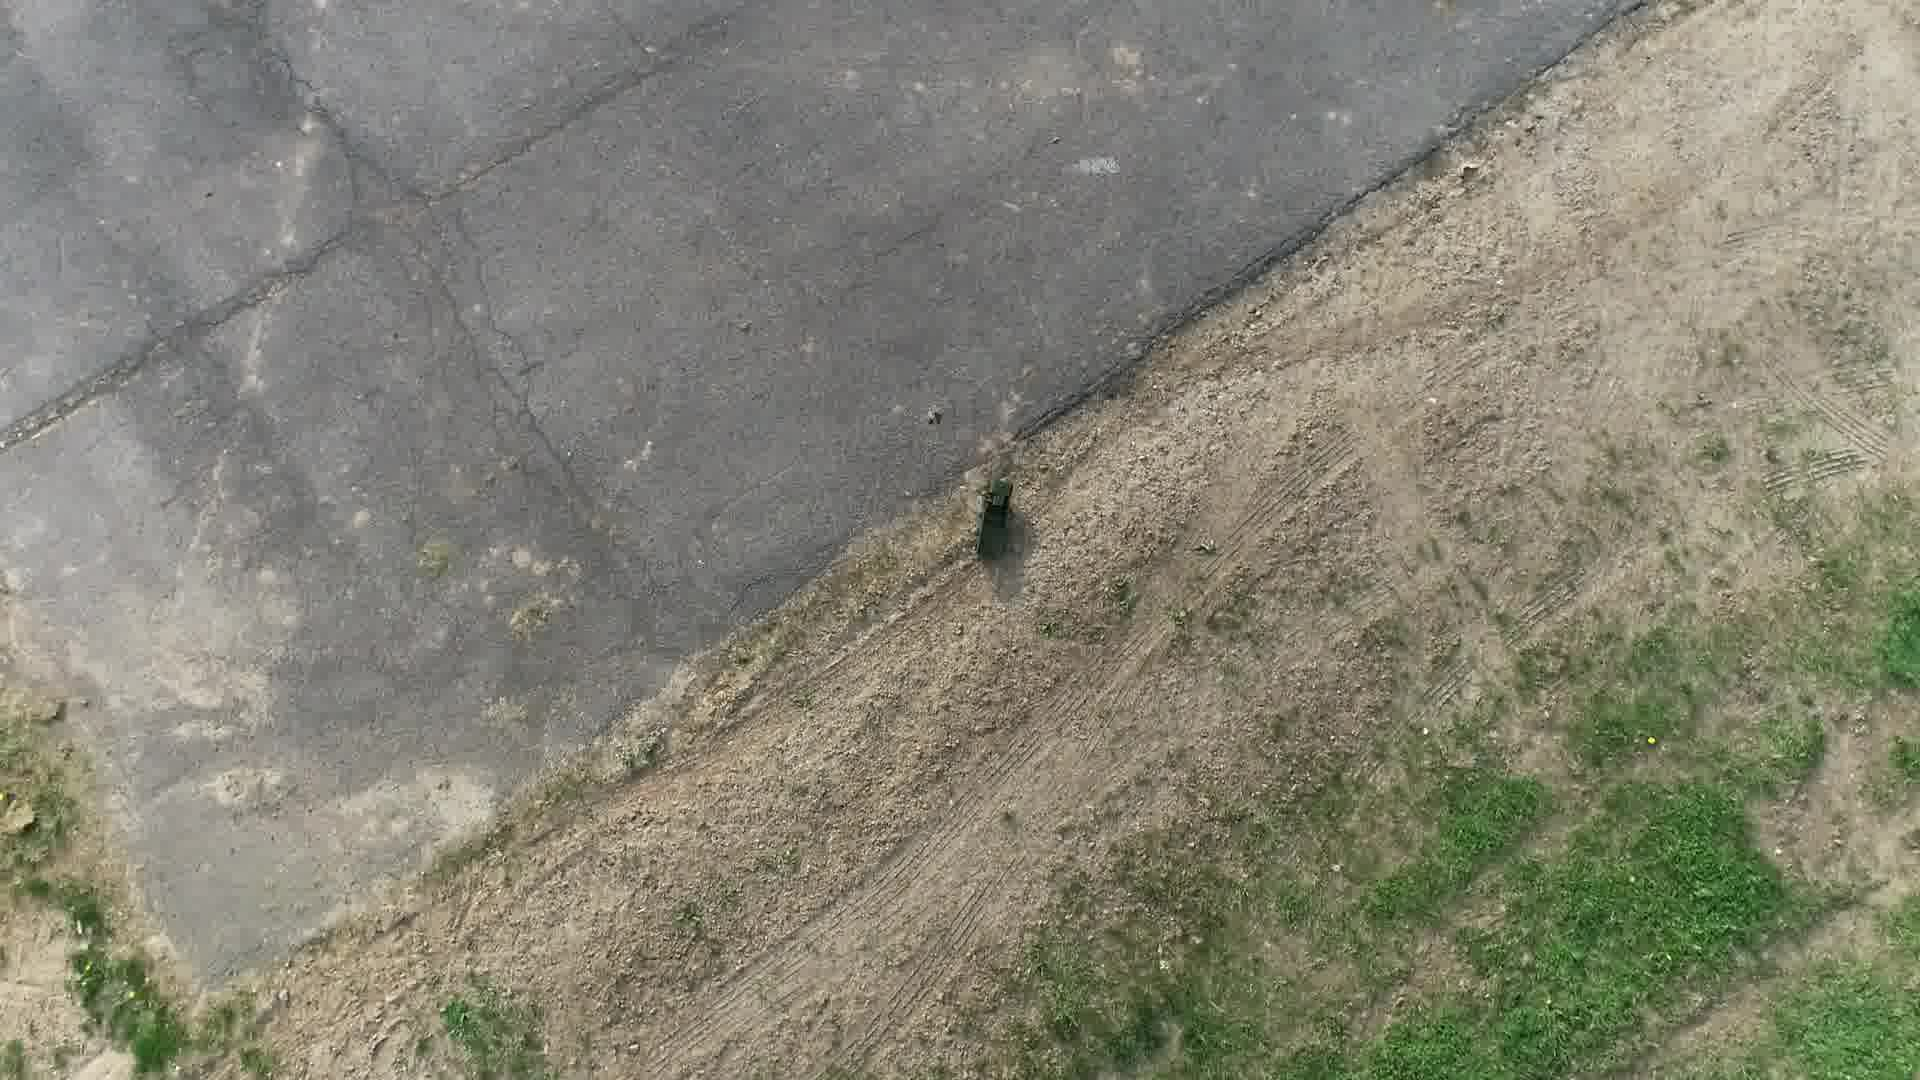transporter9: (971, 477, 1015, 563)
